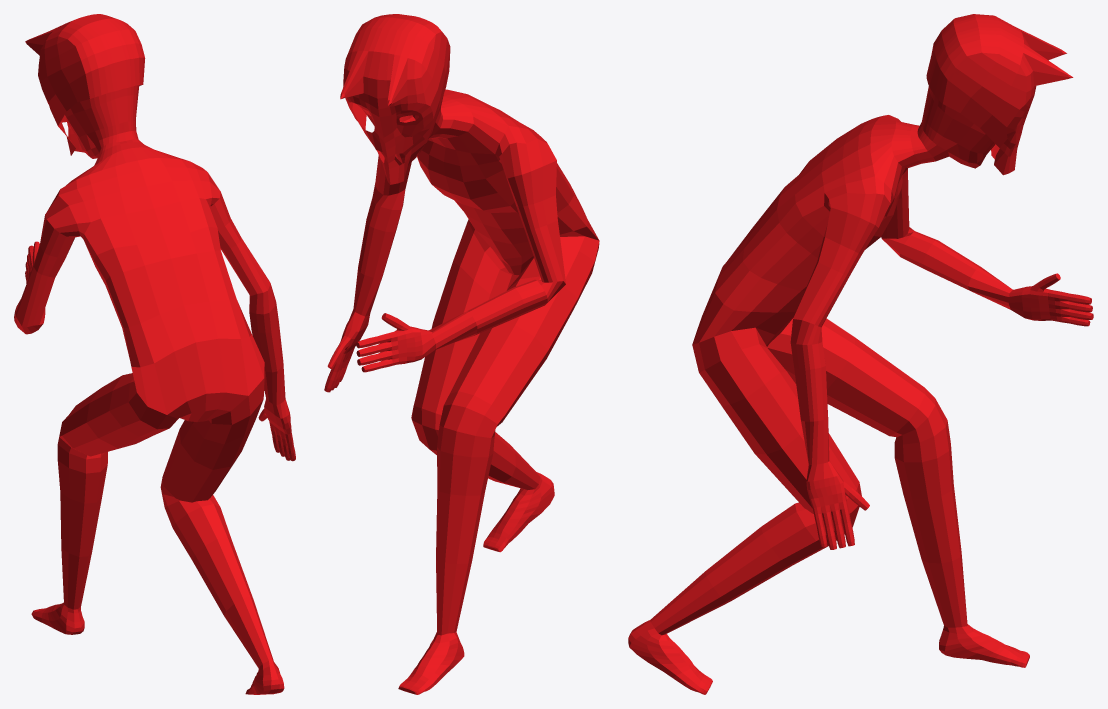
File: saltoadelanteE_000144.obj
3 renders of one model, left to right at view 1: azimuth 30°, elevation 25°; view 2: azimuth 150°, elevation 25°; view 3: azimuth 270°, elevation 25°, orthographic. The views are drawn at different scales.
Parts seen in each view (by area): view 1: Plane.002_Plane.001; view 2: Plane.002_Plane.001; view 3: Plane.002_Plane.001.
Part boxes in pixels (x1,y1,x2,y2): Plane.002_Plane.001: (14,14,295,694); Plane.002_Plane.001: (324,14,599,694); Plane.002_Plane.001: (628,14,1093,694).
Bounding box in the file's own units: 2.41 × 5.63 × 3.62.
